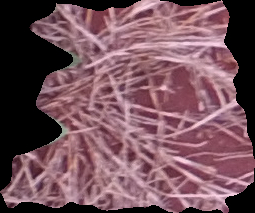soil: (1, 1, 254, 213)
